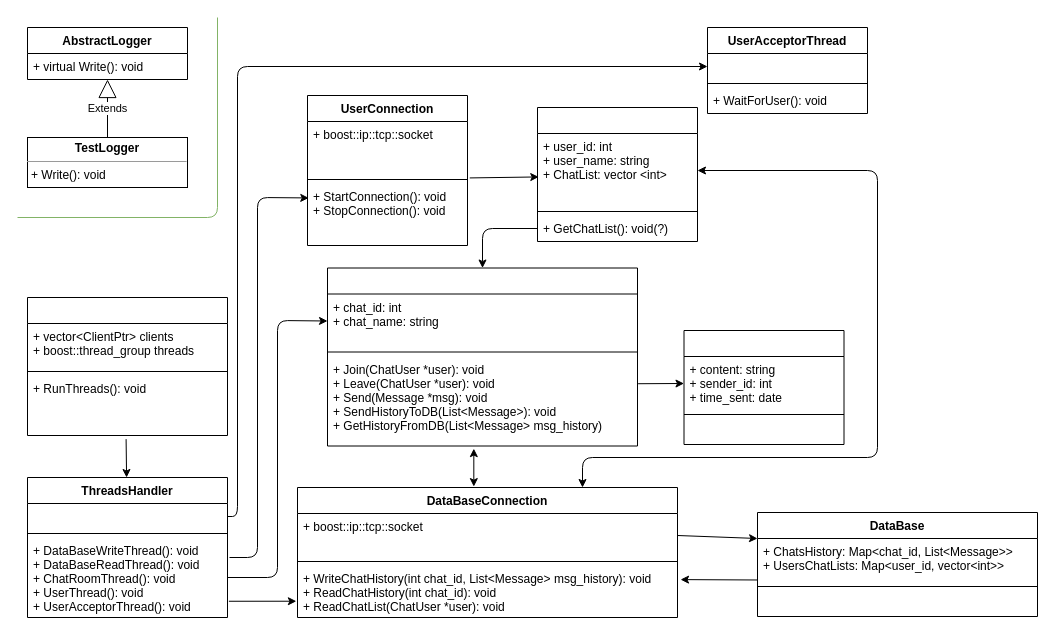
This 1055x638 diagram has some shape labels left out. Each missing label, with the box of its shape:
ChatRoomConnection: (326, 267, 638, 446)
ChatUser: (536, 106, 698, 242)
Message: (683, 330, 844, 444)
MultiThreadServer: (26, 296, 228, 436)
